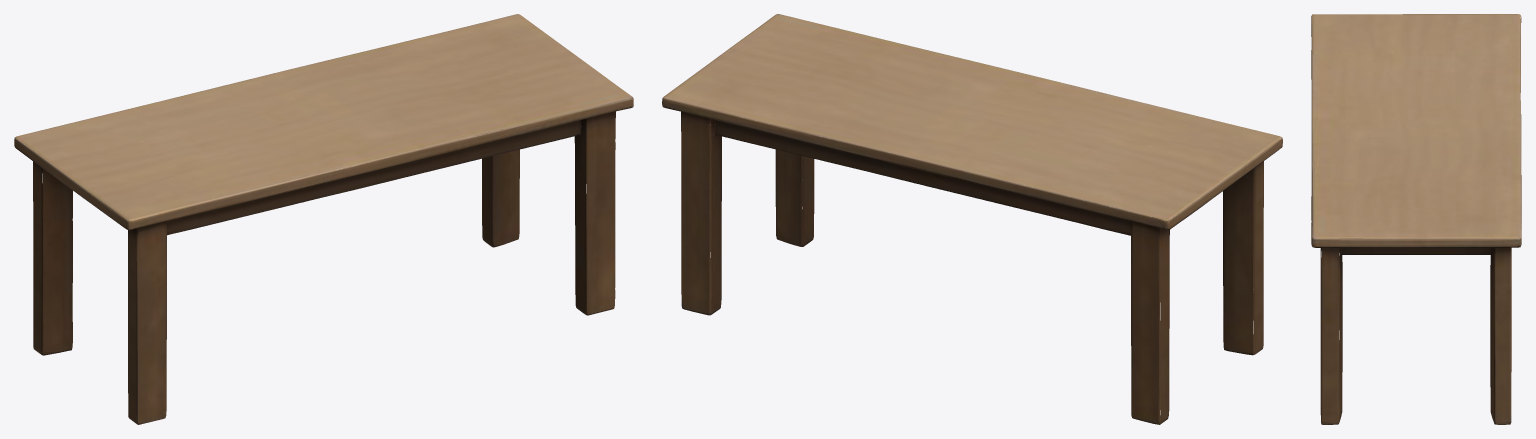
The model's file is c-table-diner.glb.
3 renders of one model, left to right at view 1: azimuth 30°, elevation 25°; view 2: azimuth 150°, elevation 25°; view 3: azimuth 270°, elevation 25°, orthographic. The views are drawn at different scales.
Visible parts, largest first — view 1: geometry_0; view 2: geometry_0; view 3: geometry_0.
Part boxes in pixels (x1=…): geometry_0: x1=14, y1=14, x2=633, y2=424; geometry_0: x1=662, y1=14, x2=1282, y2=424; geometry_0: x1=1311, y1=14, x2=1521, y2=424.
Size of the model in its own units: 1 by 0.4021 by 0.3955.
Materials: 1 (1 with a texture image).
